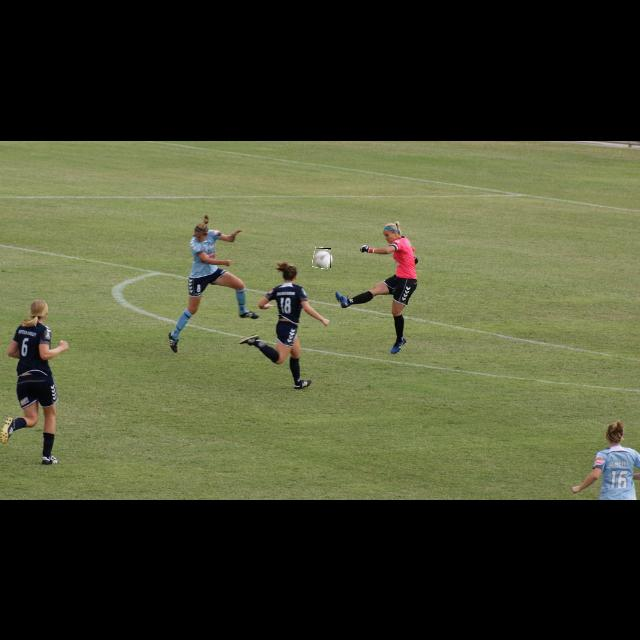Football: (313, 248, 331, 268)
